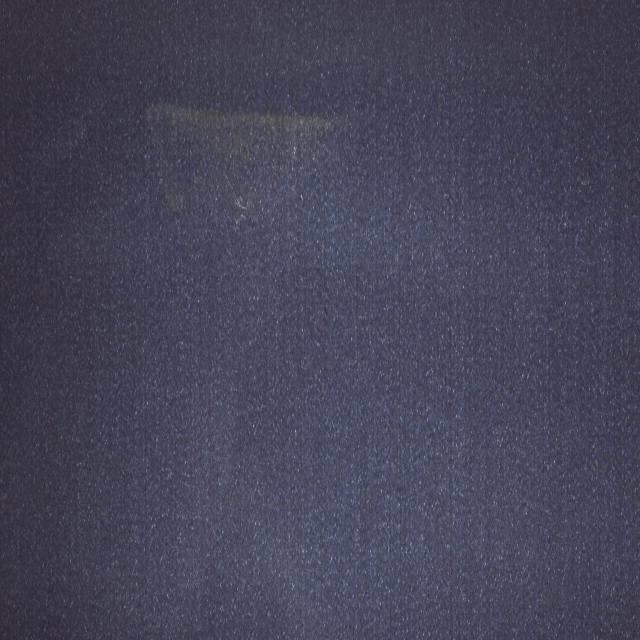Stain: (143, 100, 339, 265)
